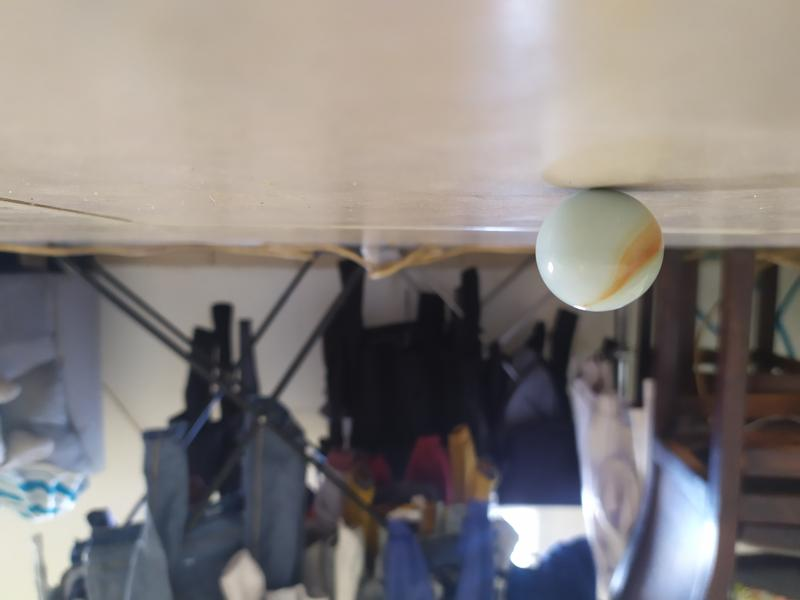Warning: (532, 182, 667, 315)
